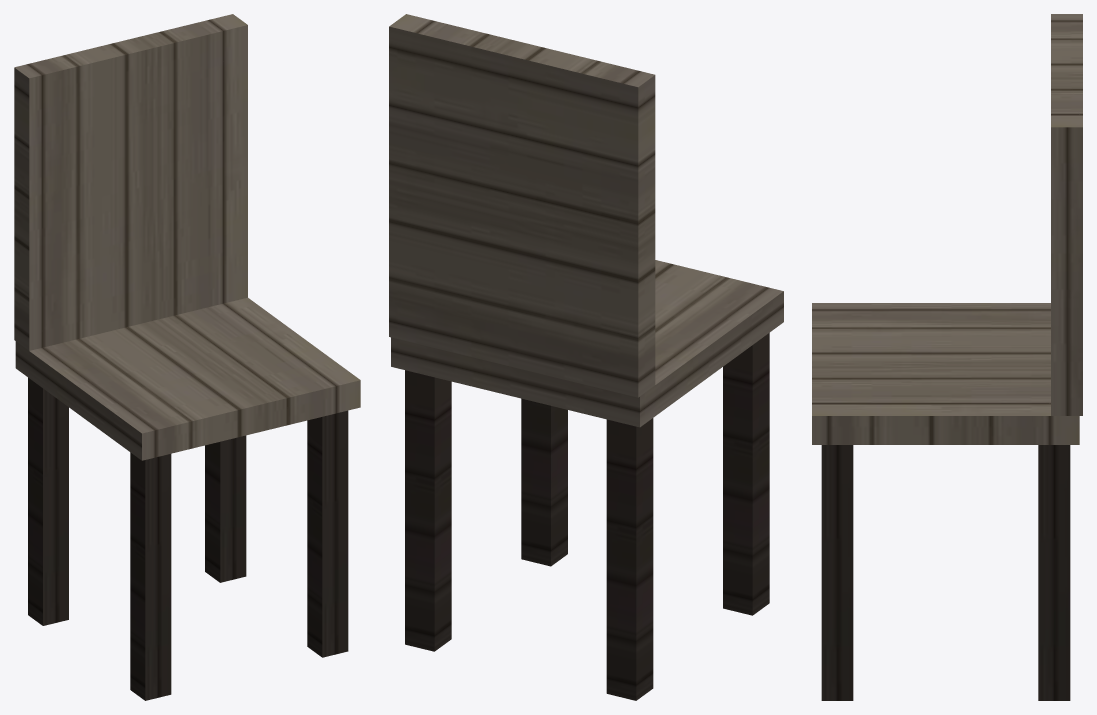
Rendered from chair_wood_01.glb.
3 renders of one model, left to right at view 1: azimuth 30°, elevation 25°; view 2: azimuth 150°, elevation 25°; view 3: azimuth 270°, elevation 25°, orthographic. The views are drawn at different scales.
Visible parts, largest first — view 1: chair_wood_01; view 2: chair_wood_01; view 3: chair_wood_01.
Part boxes in pixels (x1=…): chair_wood_01: x1=14, y1=14, x2=360, y2=700; chair_wood_01: x1=389, y1=14, x2=783, y2=700; chair_wood_01: x1=812, y1=14, x2=1082, y2=700.
Size of the model in its own units: 0.42 by 1 by 0.425.
2 materials, 2 textured.
